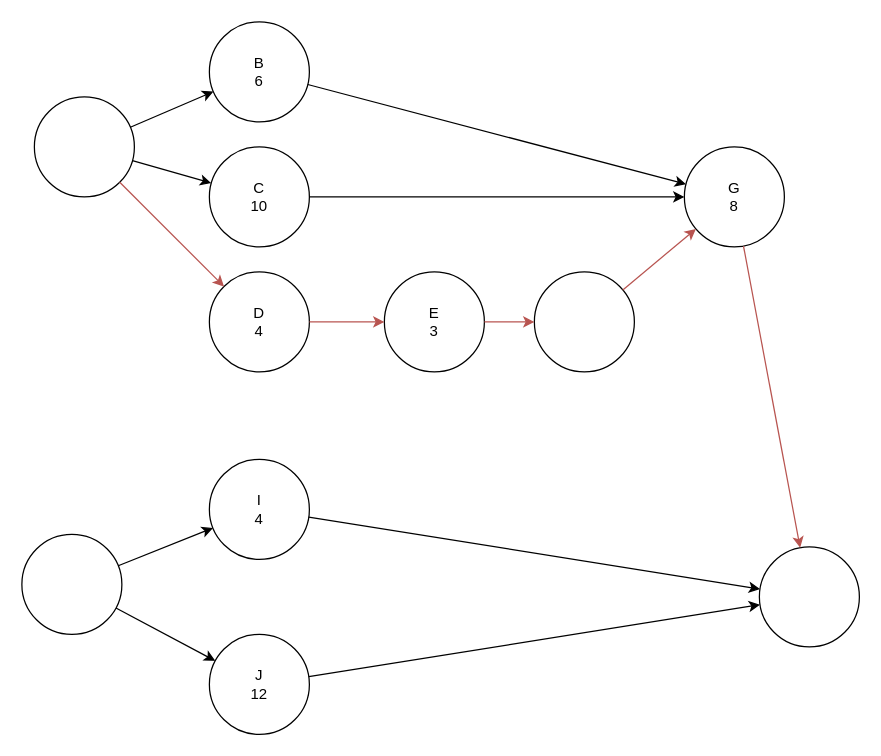
This 881x756 diagram has some shape labels left out. The shapes that lost their labels are listed below. From the top down, each one's box as (x1, y1, x2, y2) in pixels, then its label:
(33, 96, 134, 197): A 5
(533, 271, 634, 372): F 5
(21, 533, 122, 634): H 9
(758, 546, 859, 647): K 6
